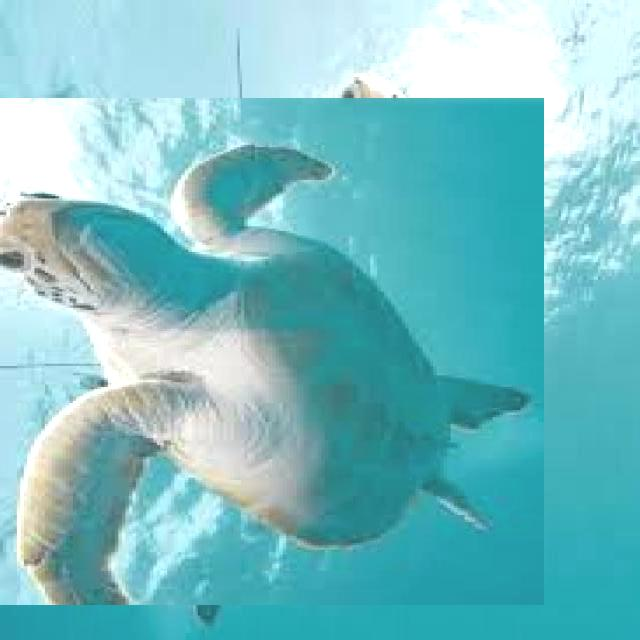Sea turtle: (0, 80, 527, 622)
